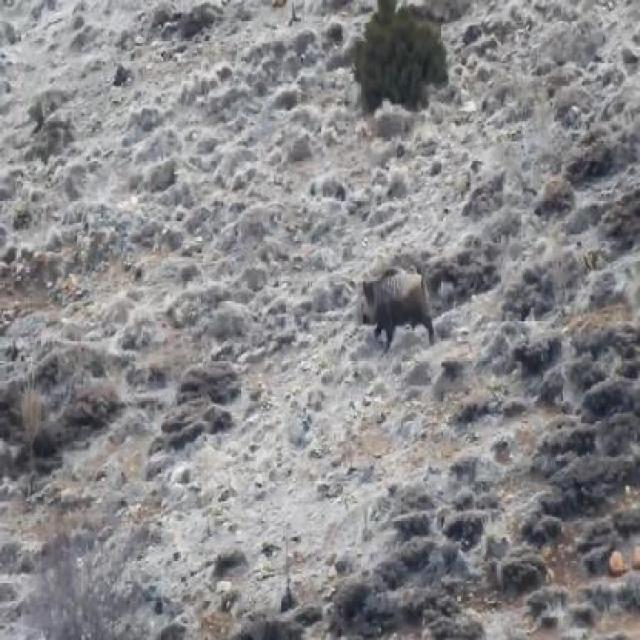pig: (356, 238, 452, 358)
